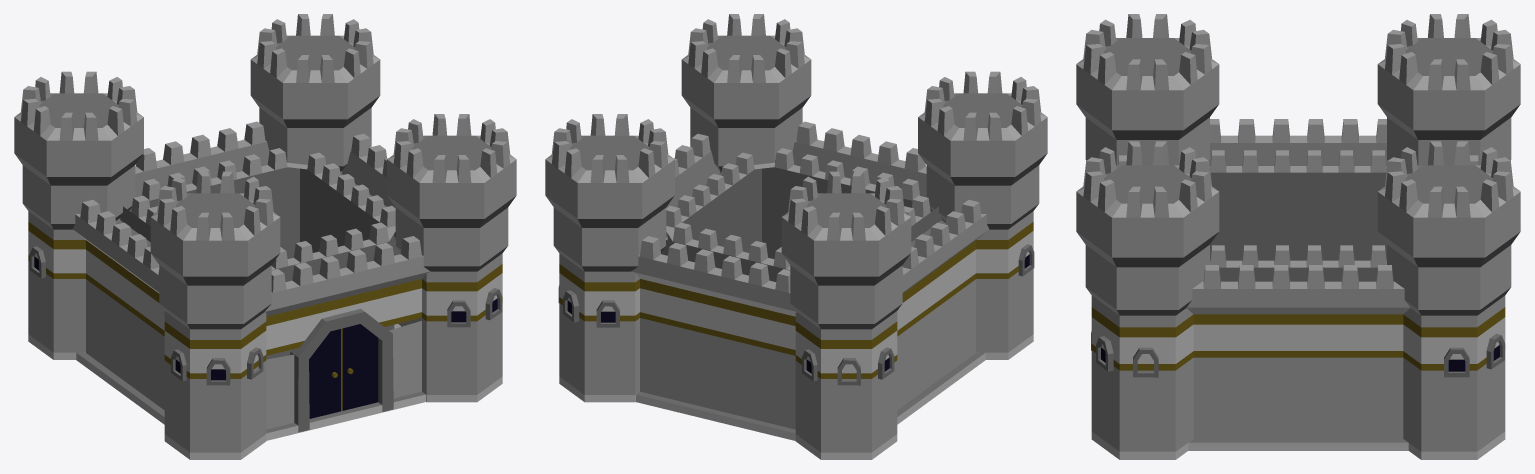
File: casttle.glb
3 views of the same model, side by side, from view 1: azimuth 30°, elevation 25°; view 2: azimuth 150°, elevation 25°; view 3: azimuth 270°, elevation 25° (orthographic). The views are drawn at different scales.
Visible parts, largest first — view 1: main, tower01, tower02, tower04, tower03, Cylinder.002; view 2: main, tower04, tower03, tower01, tower02; view 3: main, tower02, tower03, tower01, tower04.
Boxes of the visible parts, box(x1,y1,x2,y2) form: main: box(73, 121, 430, 440); tower01: box(150, 171, 280, 459); tower02: box(387, 114, 516, 402); tower04: box(14, 71, 143, 359); tower03: box(250, 14, 380, 173); Cylinder.002: box(294, 308, 393, 432); main: box(631, 121, 988, 440); tower04: box(781, 171, 911, 459); tower03: box(545, 114, 674, 402); tower01: box(918, 71, 1047, 359); tower02: box(681, 14, 811, 173); main: box(1118, 119, 1479, 450); tower02: box(1076, 141, 1219, 459); tower03: box(1377, 141, 1520, 459); tower01: box(1076, 14, 1219, 165); tower04: box(1377, 14, 1520, 165).
Size of the model in its own units: 653 by 462 by 682.
